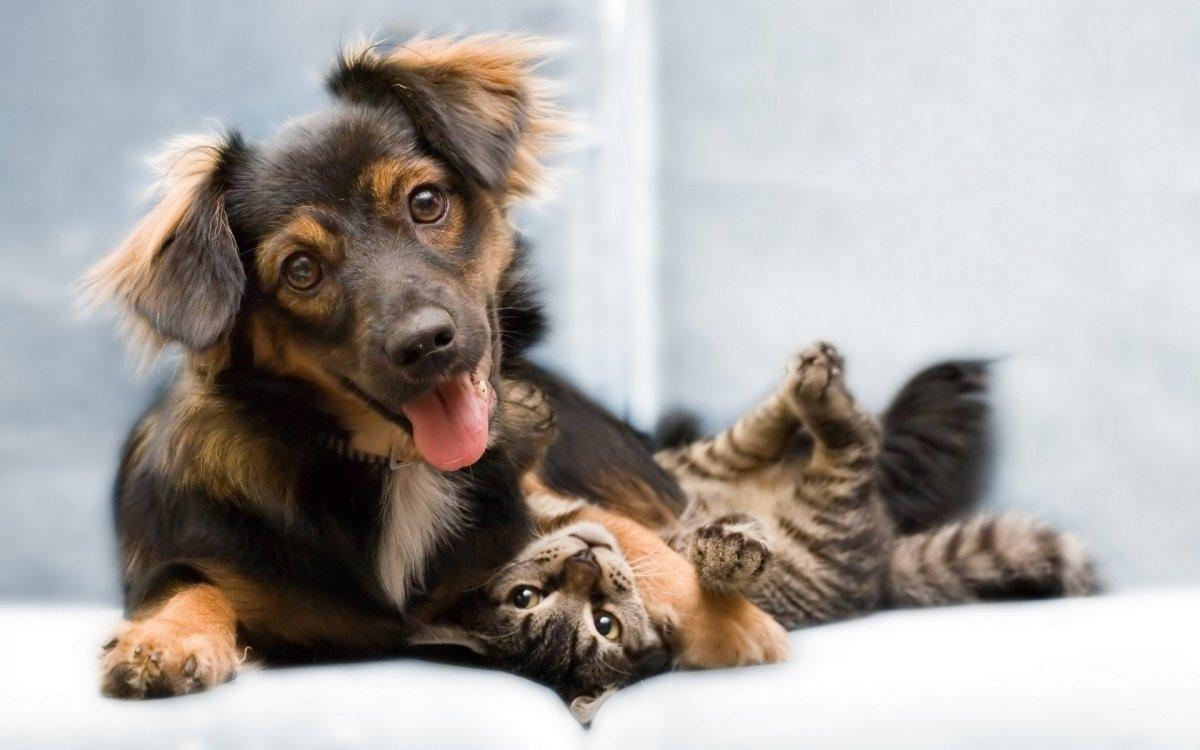animals: (98, 33, 634, 494), (422, 506, 723, 750)
